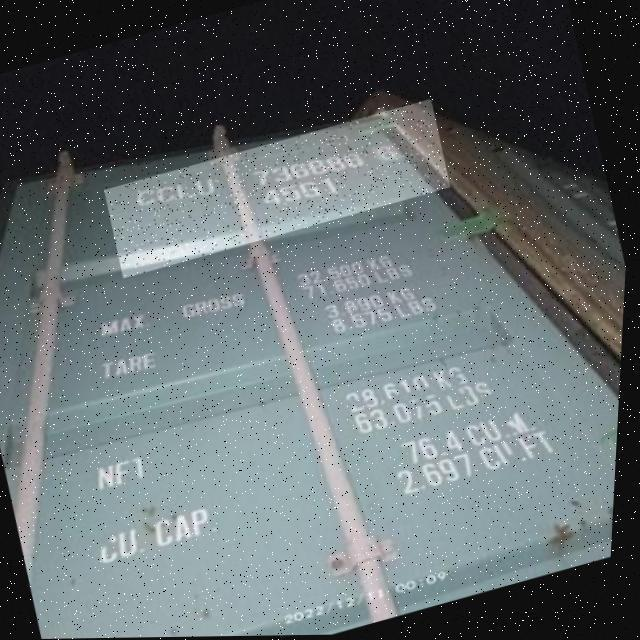container_number_h: (103, 99, 456, 278)
